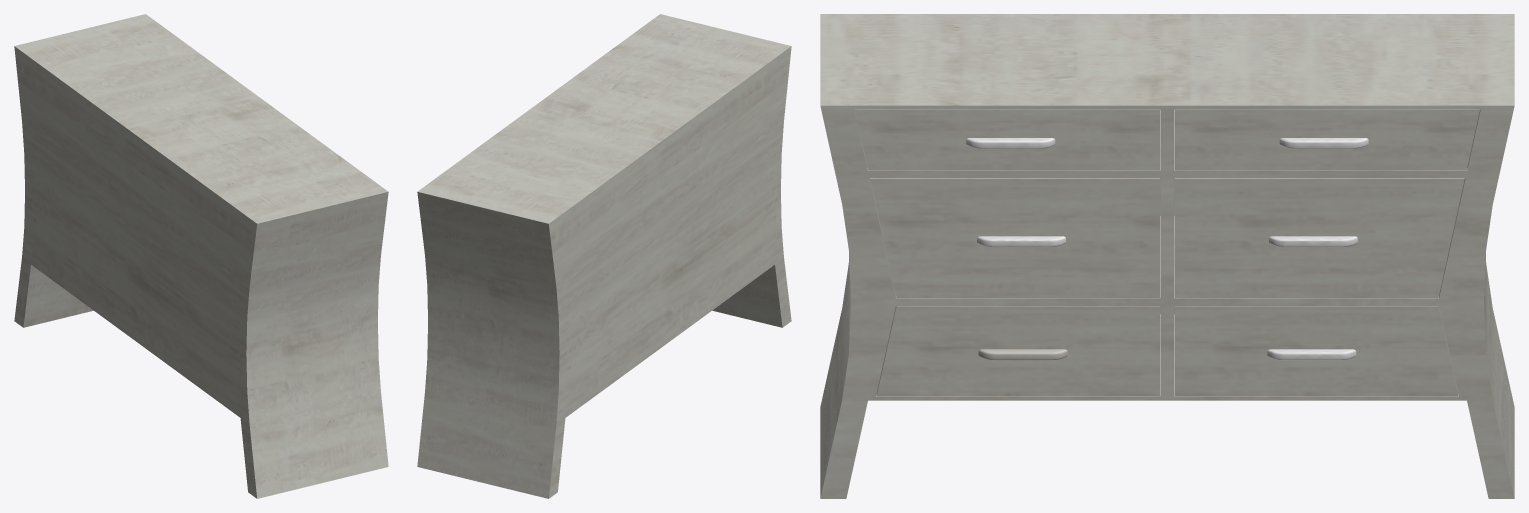
File: dresser.fbx
The picture shows the model from 3 angles, left to right: view 1: azimuth 30°, elevation 25°; view 2: azimuth 150°, elevation 25°; view 3: azimuth 270°, elevation 25°; orthographic projection. The views are drawn at different scales.
Visible parts, largest first — view 1: dresser; view 2: dresser; view 3: dresser, latch_3, latch_4, latch_5, latch_6, latch_1, latch_2.
Boxes of the visible parts, x1,y1,x2,y2 form: dresser: (14,14,388,498); dresser: (417,14,791,498); dresser: (820,14,1514,498); latch_3: (870,178,1159,297); latch_4: (1175,178,1464,297); latch_5: (876,306,1159,396); latch_6: (1175,306,1458,396); latch_1: (855,109,1159,170); latch_2: (1175,109,1479,170).
Bounding box in the file's own units: 53 × 100 × 160.
1 material, 1 textured.
